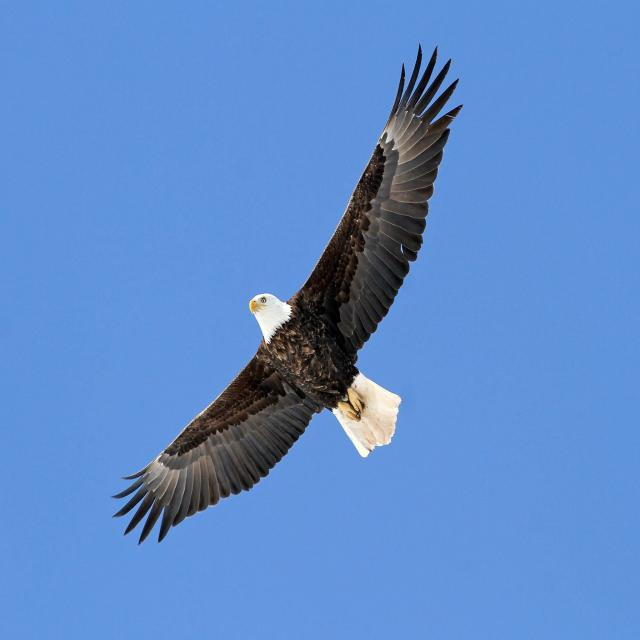Eagle: (119, 39, 466, 545)
